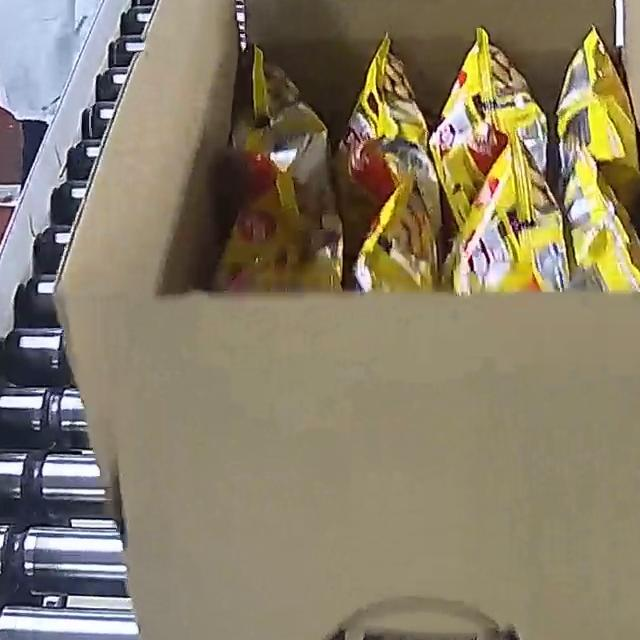salted: (187, 0, 640, 294)
